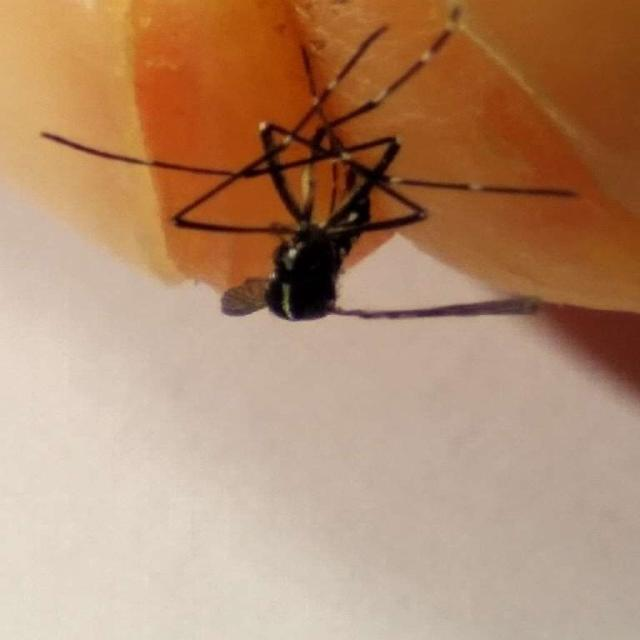albopictus: (41, 11, 583, 342)
